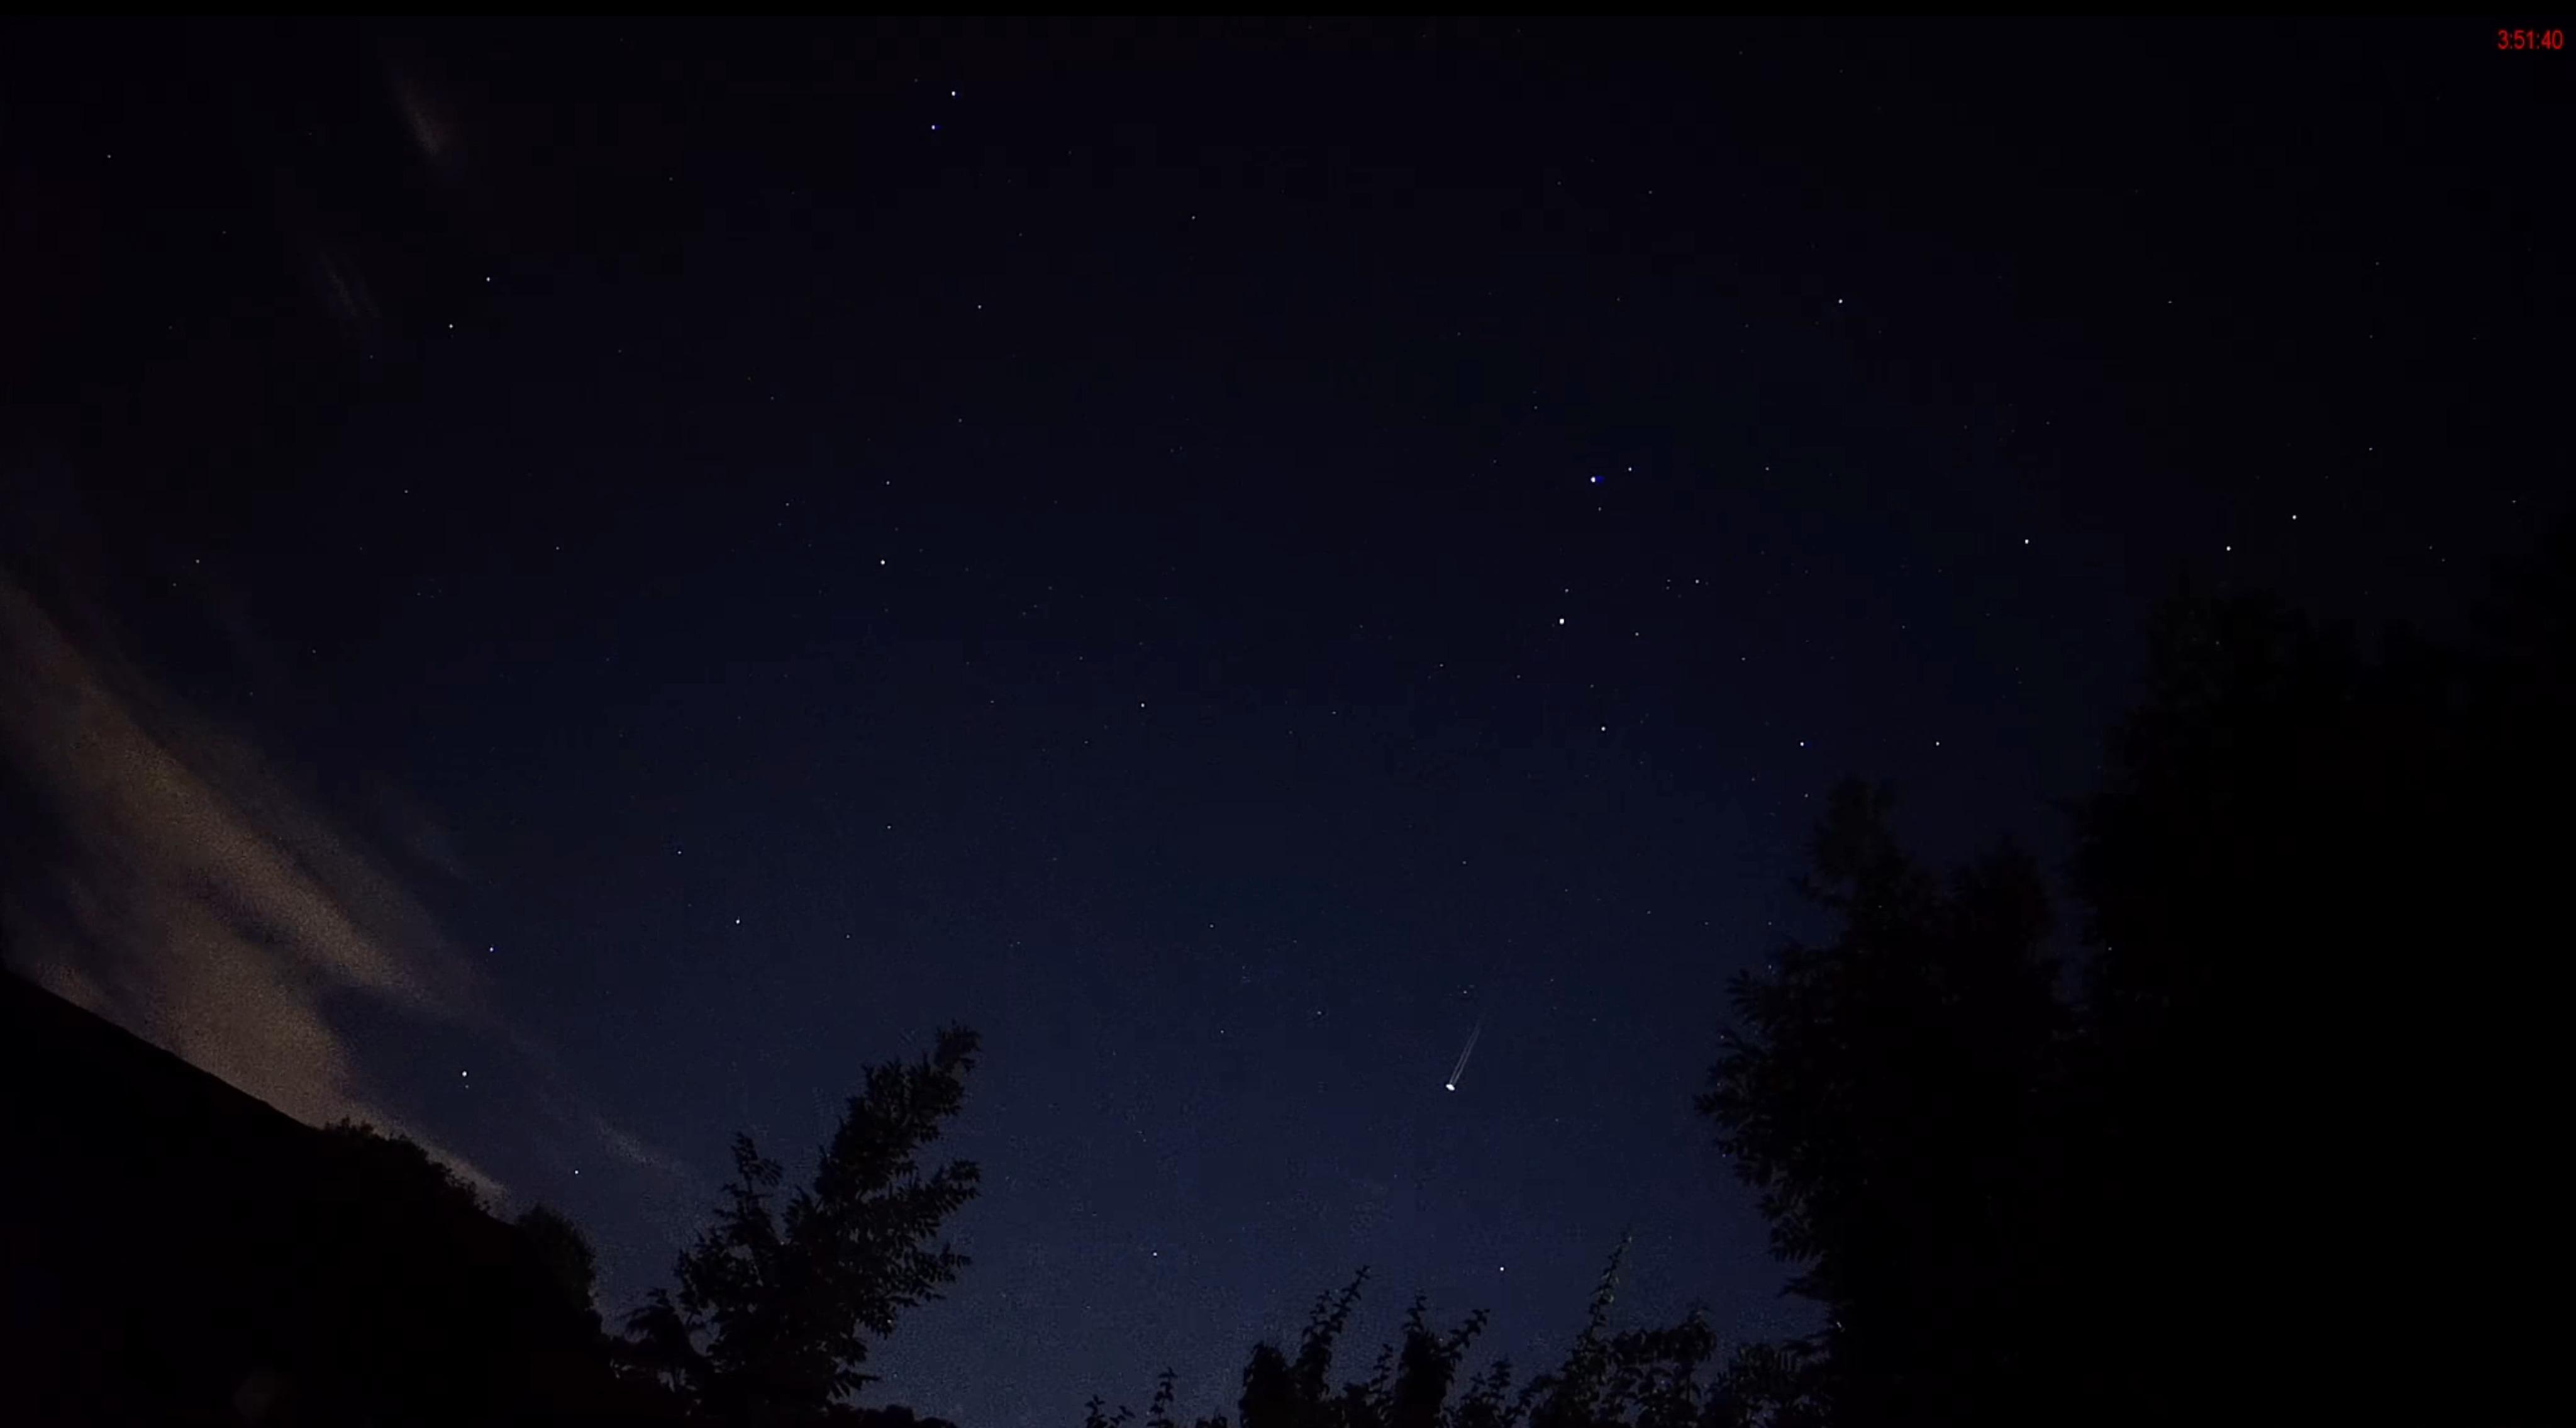Plane: (1422, 1024, 1494, 1101)
